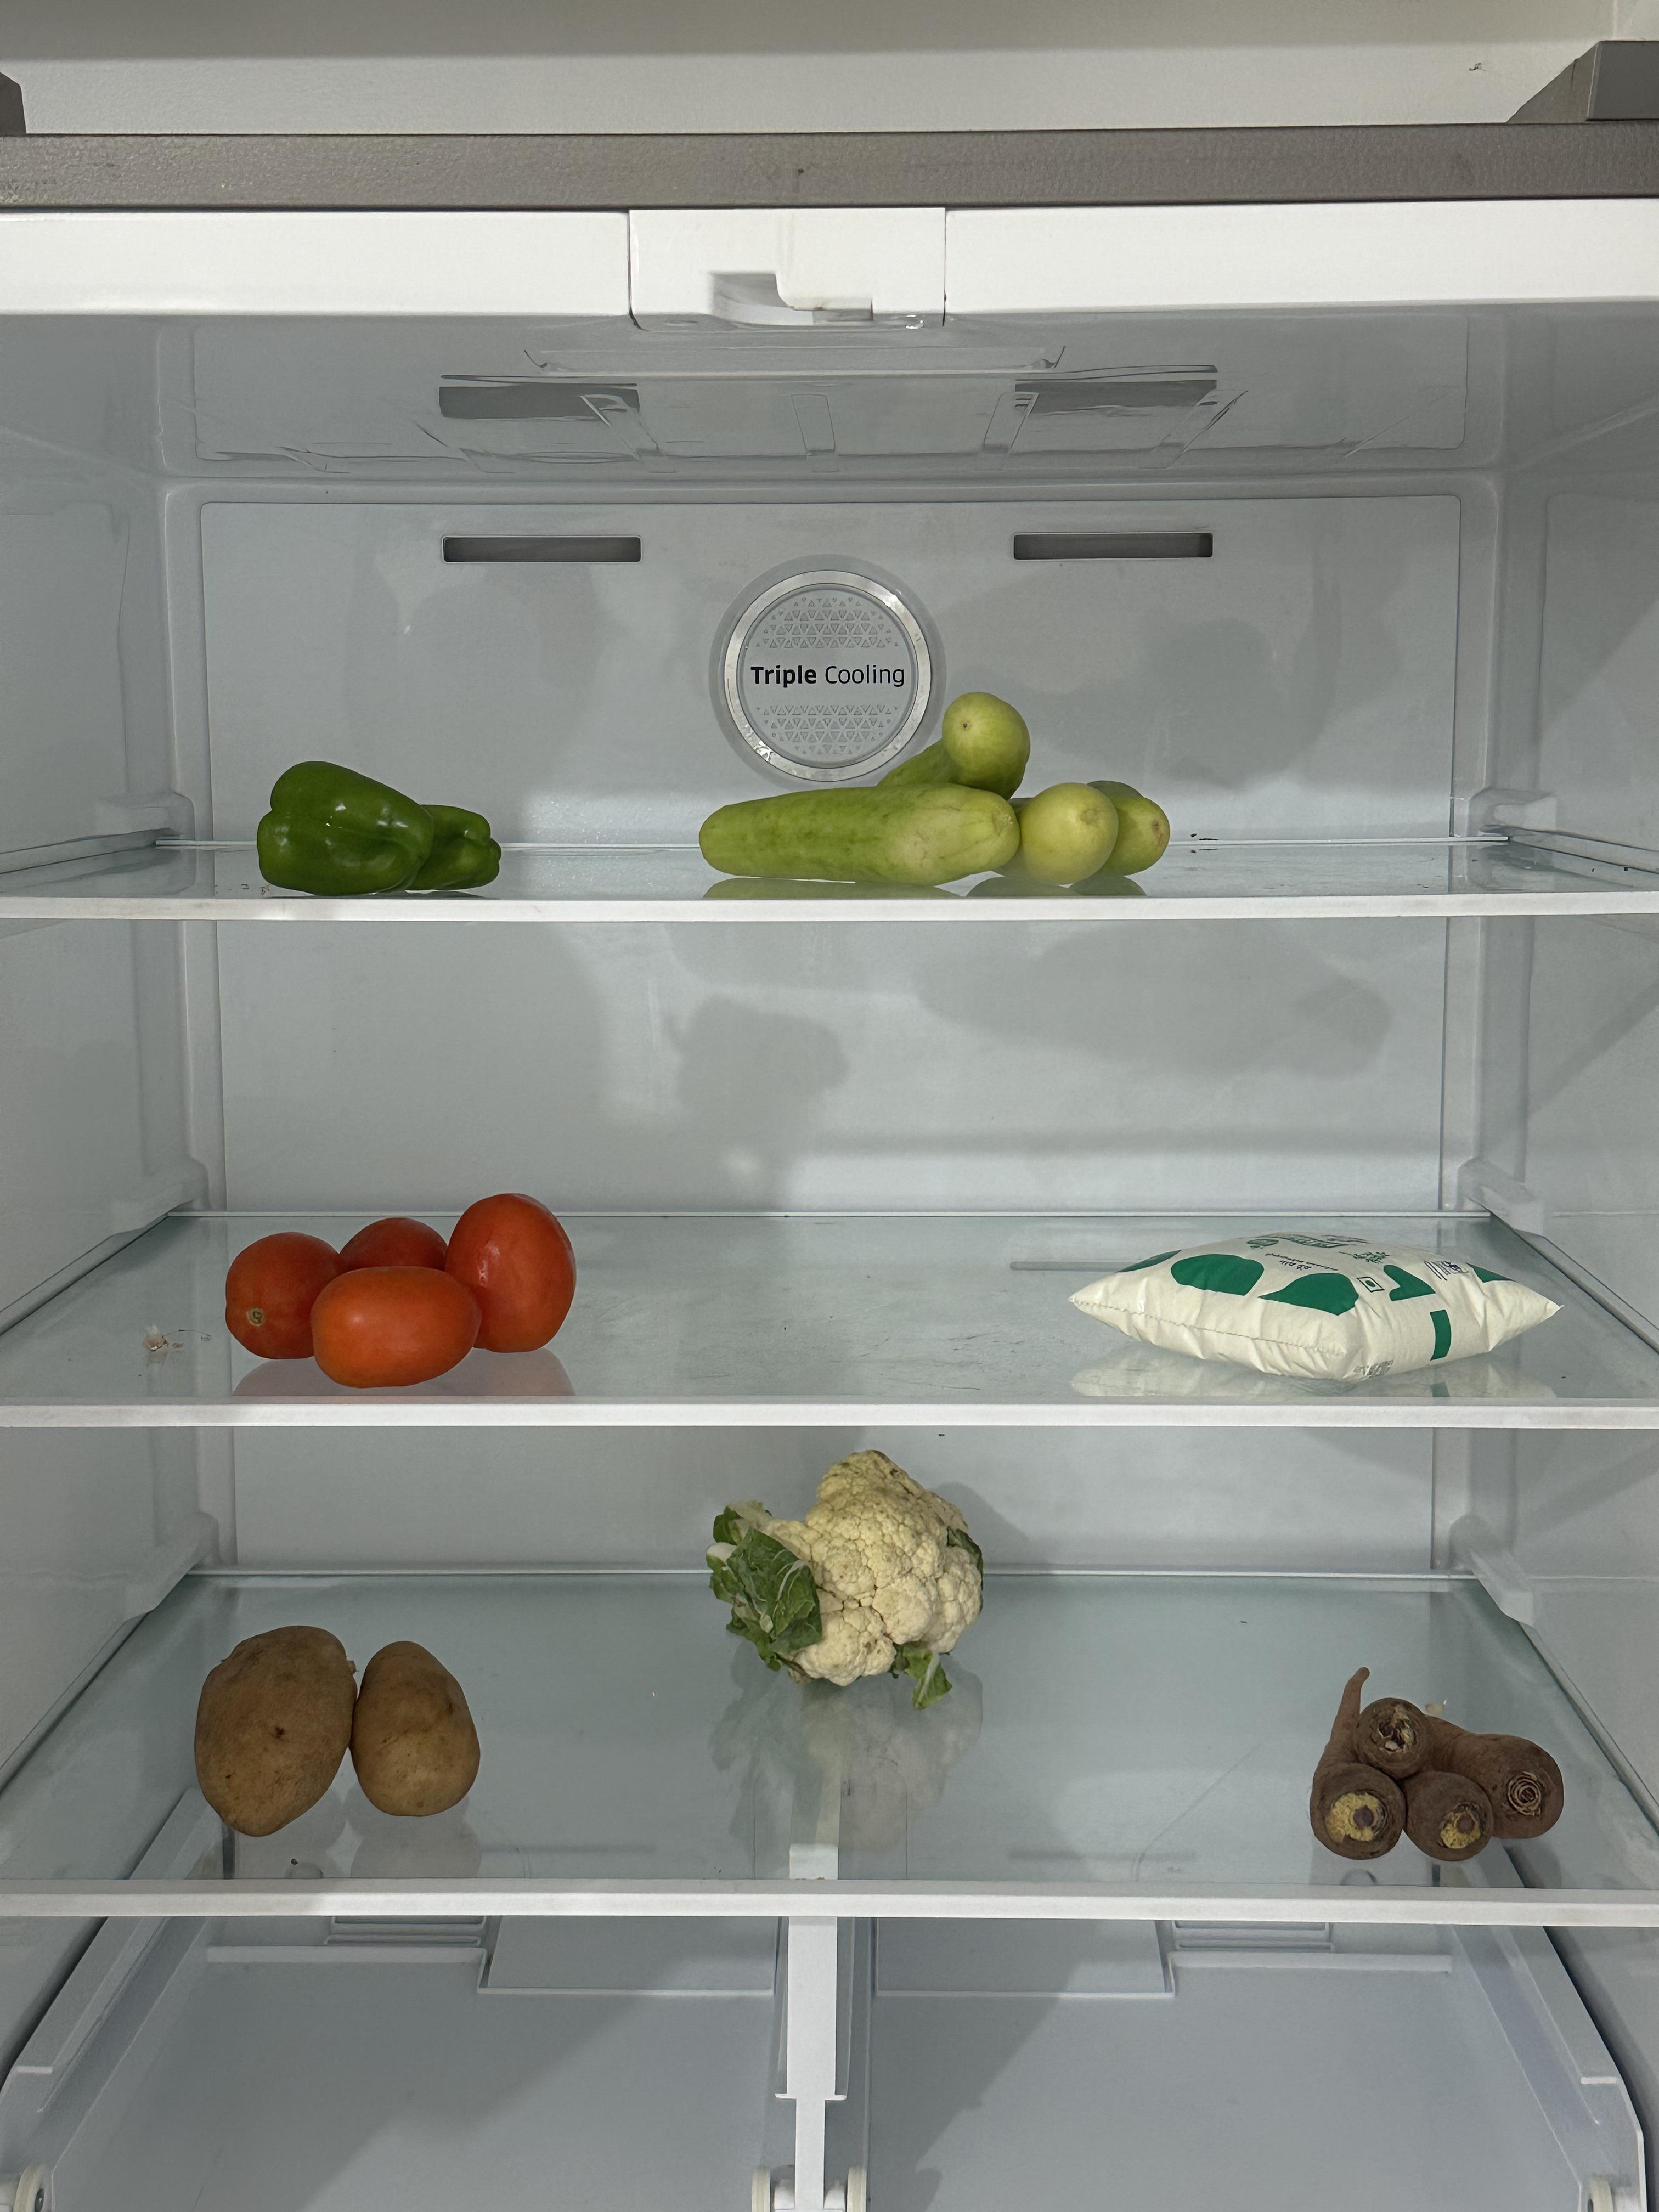capsicum: (246, 754, 505, 892)
carrots: (1312, 1658, 1570, 1862)
cauliflower: (704, 1446, 992, 1688)
cucumber: (694, 688, 1175, 887)
milk: (1073, 1219, 1556, 1379)
potato: (197, 1622, 481, 1832)
tomato: (213, 1186, 582, 1390)
